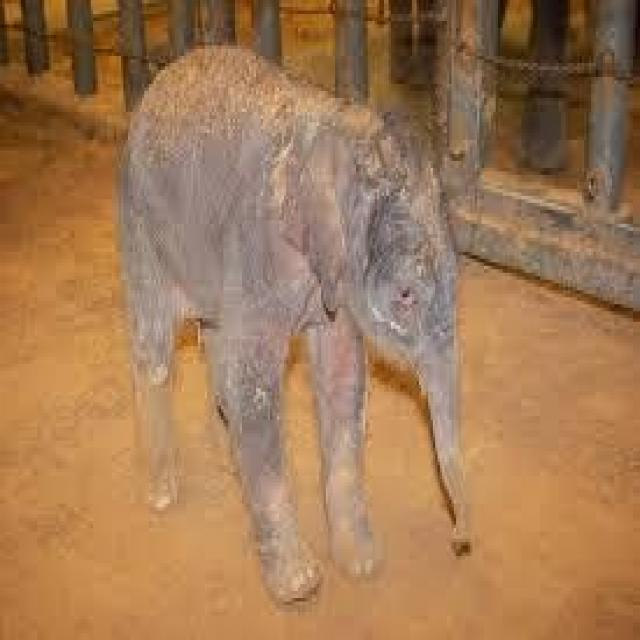Elephant: (119, 35, 475, 604)
